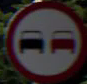No overtake: (7, 6, 82, 71)
